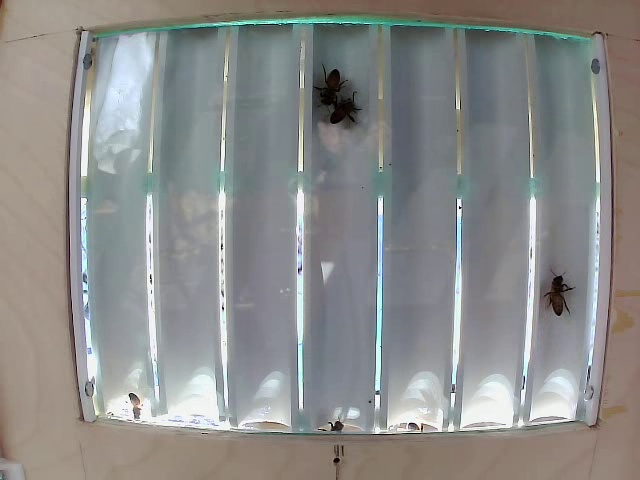bee: (536, 245, 578, 305), (313, 66, 348, 116), (337, 104, 357, 133)
